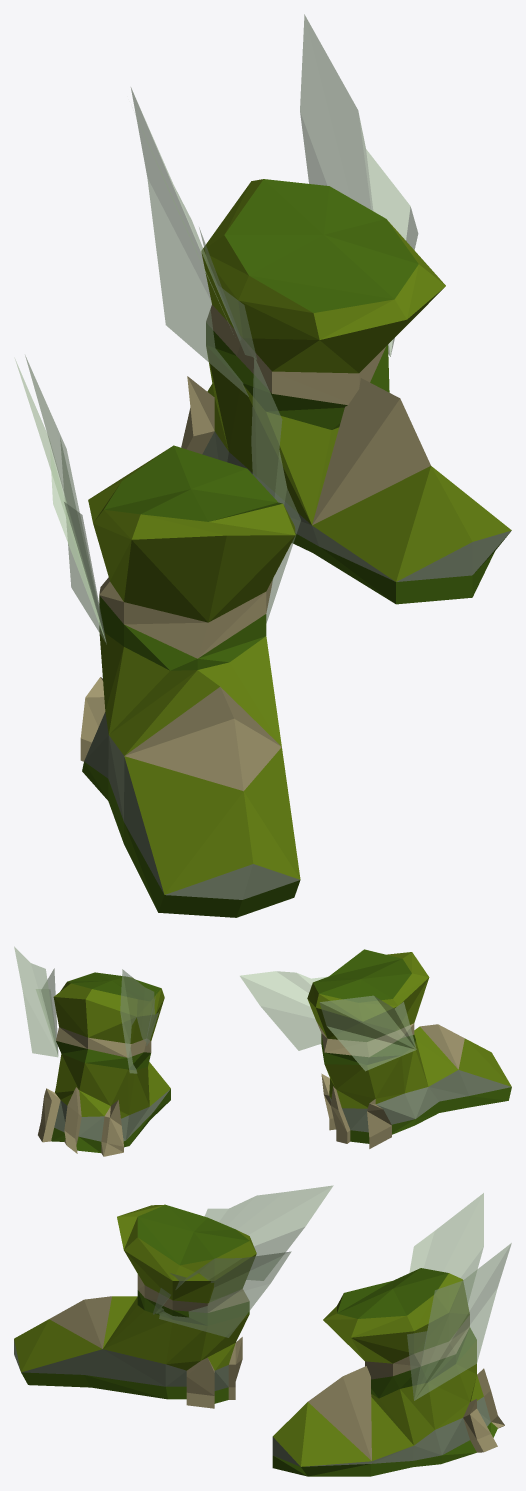
The model's file is player_pegasian_boots.glb.
The picture shows the model from 3 angles, top to bottom: view 1: azimuth 30°, elevation 25°; view 2: azimuth 150°, elevation 25°; view 3: azimuth 270°, elevation 25°; orthographic projection. The views are drawn at different scales.
Bounding box in the file's own units: 54.84 × 41.51 × 71.12.
Materials: 2 (2 with a texture image).
